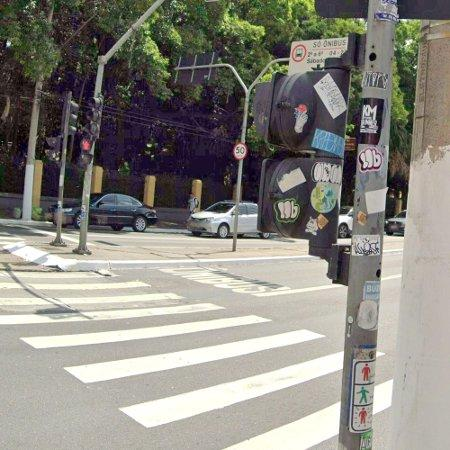crosswalks: (0, 267, 345, 450)
